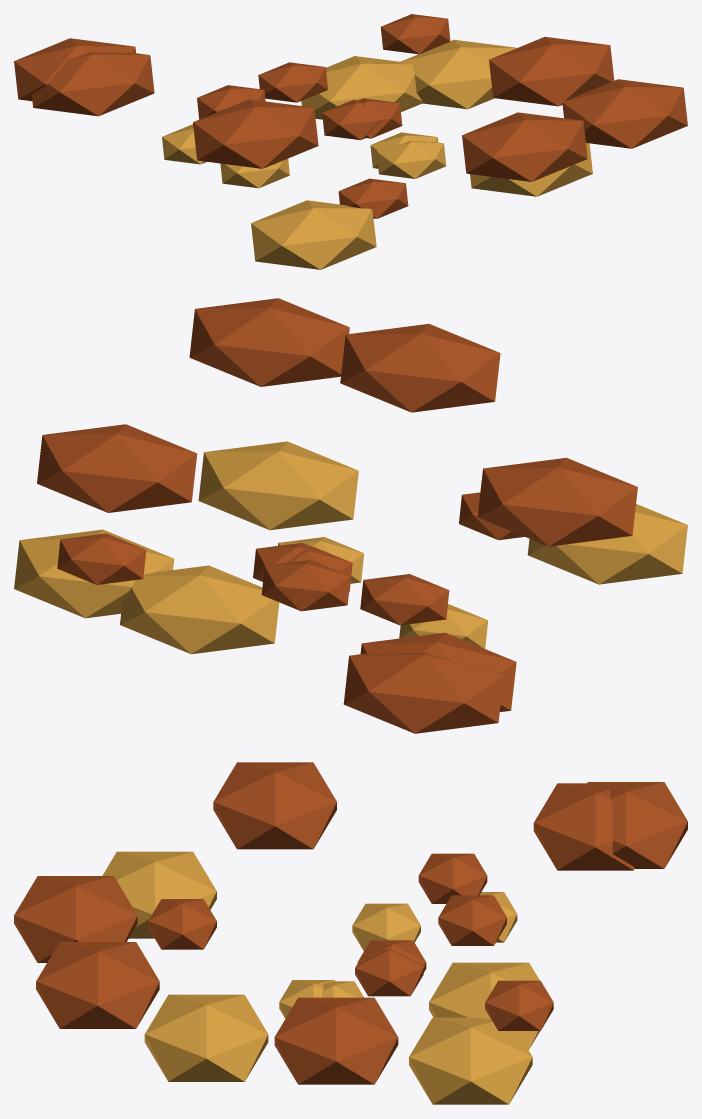
File: Proc_DriedFruit.fbx
The picture shows the model from 3 angles, top to bottom: view 1: azimuth 30°, elevation 25°; view 2: azimuth 150°, elevation 25°; view 3: azimuth 270°, elevation 25°; orthographic projection. The views are drawn at different scales.
Visible parts, largest first — view 1: Proc_DriedFruit__Stack, Proc_DriedFruit; view 2: Proc_DriedFruit__Stack, Proc_DriedFruit; view 3: Proc_DriedFruit__Stack, Proc_DriedFruit.
Boxes of the visible parts, bbox=[...] form: Proc_DriedFruit__Stack: bbox=[14, 37, 687, 269]; Proc_DriedFruit: bbox=[162, 14, 450, 218]; Proc_DriedFruit__Stack: bbox=[14, 298, 687, 733]; Proc_DriedFruit: bbox=[57, 492, 524, 648]; Proc_DriedFruit__Stack: bbox=[14, 762, 687, 1104]; Proc_DriedFruit: bbox=[148, 853, 553, 1030].
Size of the model in its own units: 0.1175 by 0.0288 by 0.1168.
